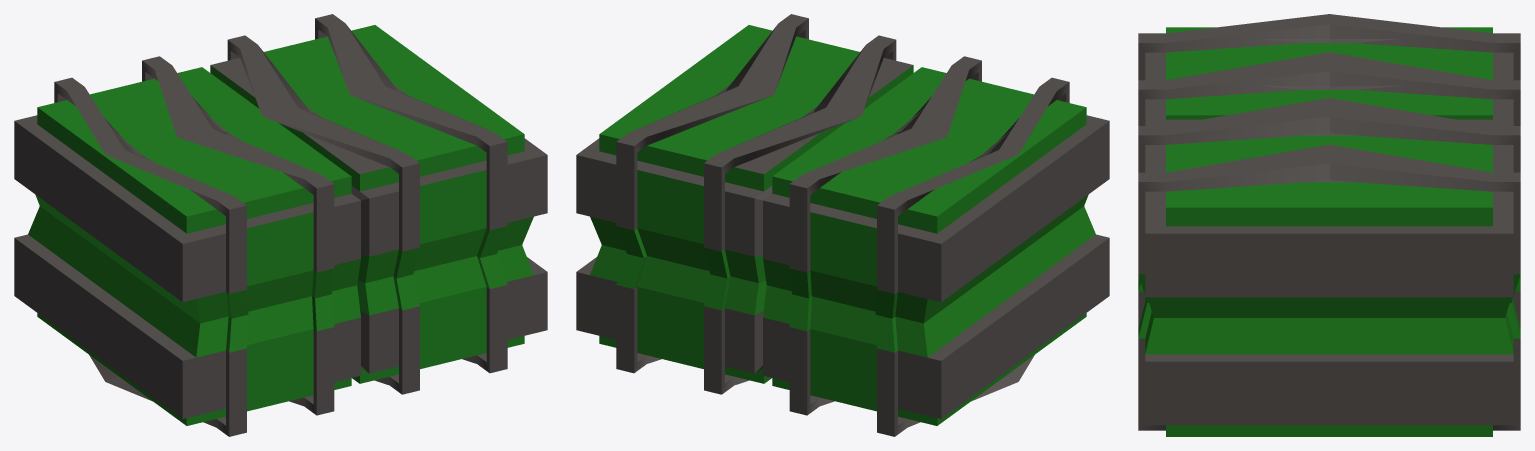
File: valise_bombe.fbx
The picture shows the model from 3 angles, left to right: view 1: azimuth 30°, elevation 25°; view 2: azimuth 150°, elevation 25°; view 3: azimuth 270°, elevation 25°; orthographic projection. The views are drawn at different scales.
Visible parts, largest first — view 1: valise_vert; view 2: valise_vert; view 3: valise_vert.
Part boxes in pixels (x1=…): valise_vert: x1=14, y1=14, x2=547, y2=436; valise_vert: x1=576, y1=14, x2=1109, y2=436; valise_vert: x1=1138, y1=14, x2=1520, y2=436.
Bounding box in the file's own units: 100 × 59.49 × 82.9.
